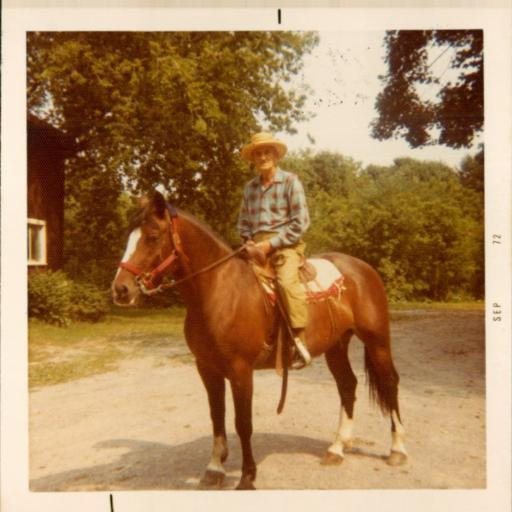horse: (110, 189, 410, 490)
